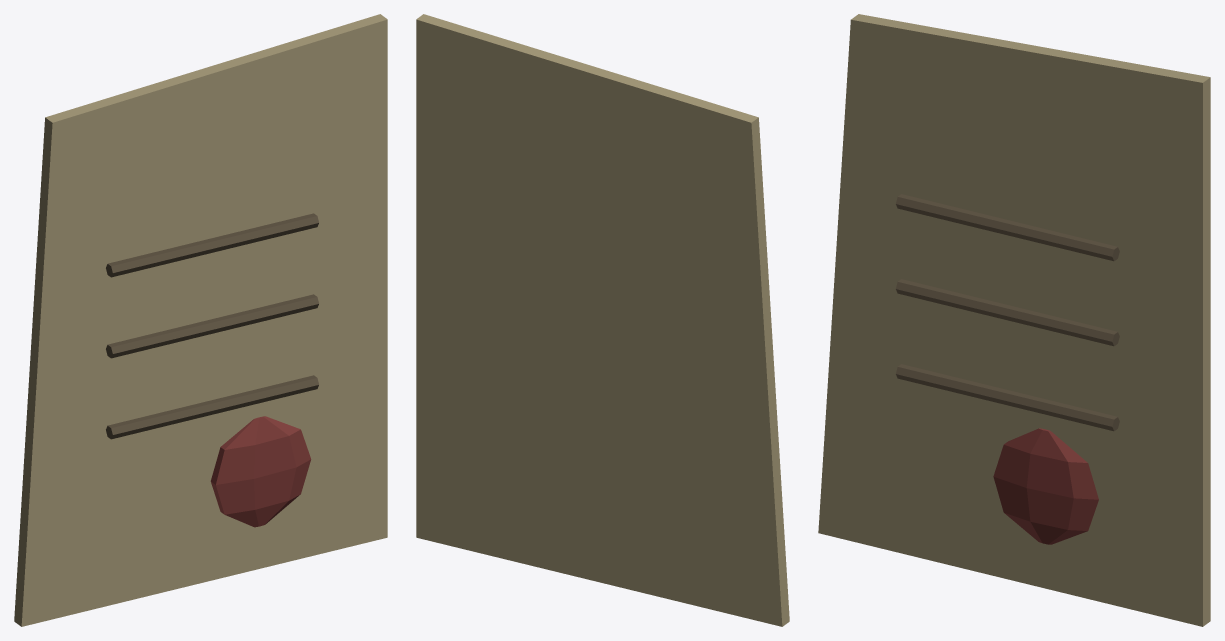
File: forgedOrders.glb
The picture shows the model from 3 angles, left to right: view 1: azimuth 30°, elevation 25°; view 2: azimuth 150°, elevation 25°; view 3: azimuth 330°, elevation 25°; orthographic projection. The views are drawn at different scales.
Visible parts, largest first — view 1: forgedOrders; view 2: forgedOrders; view 3: forgedOrders.
Part boxes in pixels (x1,y1,x2,y2): forgedOrders: [14, 14, 387, 626]; forgedOrders: [416, 14, 789, 626]; forgedOrders: [818, 14, 1210, 626].
Bounding box in the file's own units: 0.7396 × 1 × 0.0854.
